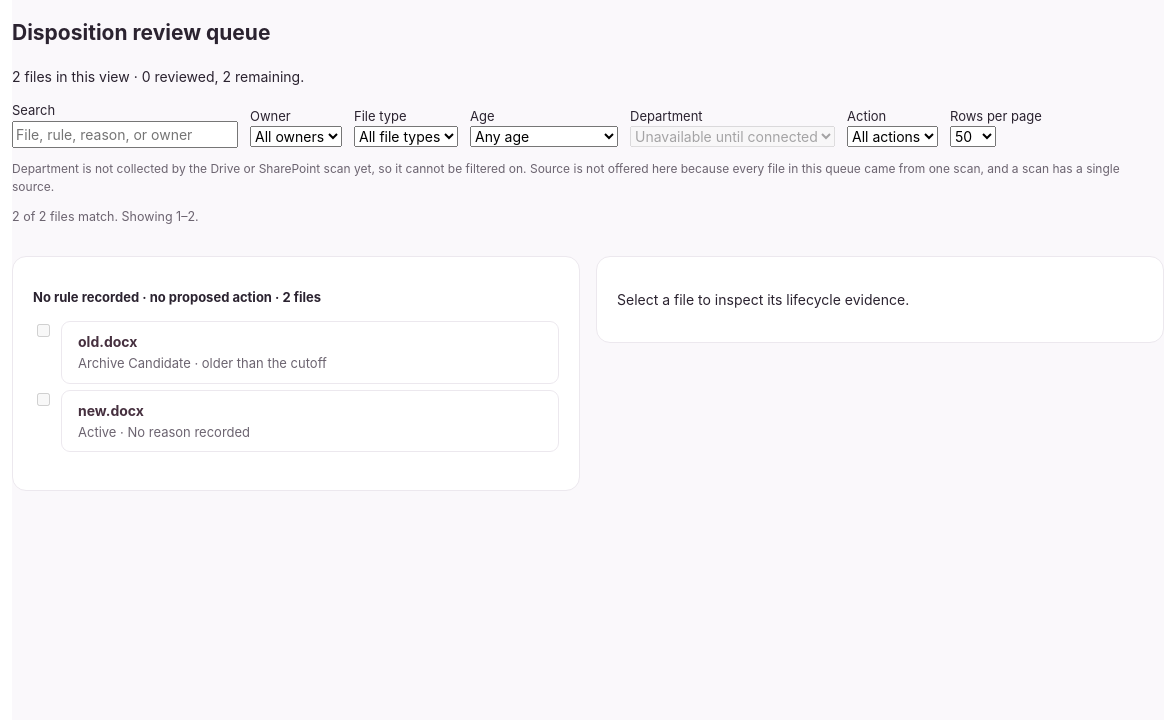
it: the two-panel review is navigable and states its selection non-visually › gives the detail panel its own labelled landmark, so it is reachable independently
This screenshot has width=1164, height=720.
Click the button that starts with "old.docx". click: click(310, 352)
box: [61,321,559,384]
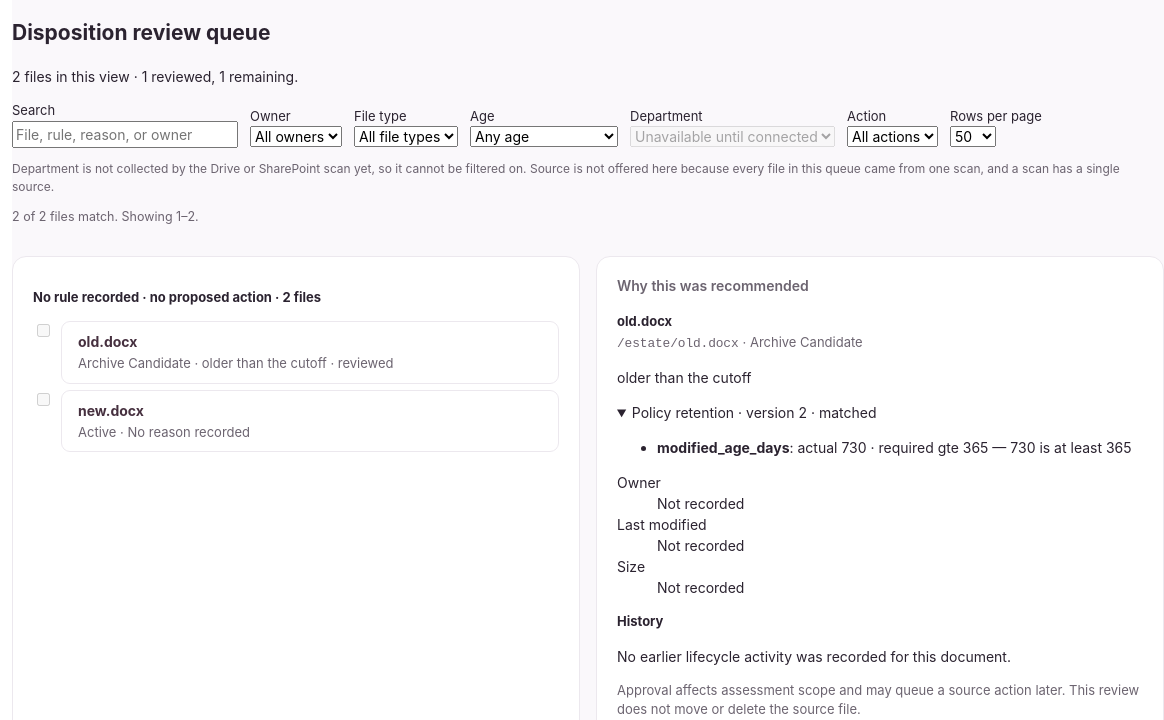
Now the heading "Why this was recommended" is shown, box [617,277,809,294]
